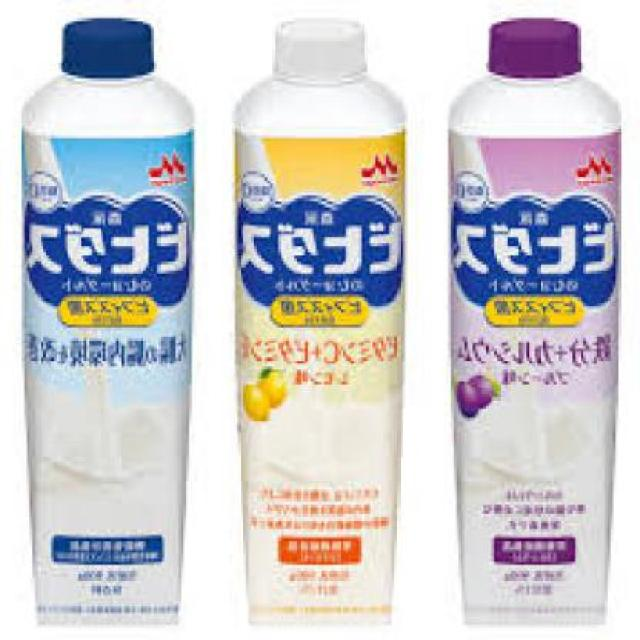PLASTIC: (25, 16, 200, 622), (451, 16, 624, 622), (238, 19, 410, 618), (275, 15, 371, 84), (65, 12, 157, 78), (491, 18, 584, 78)
